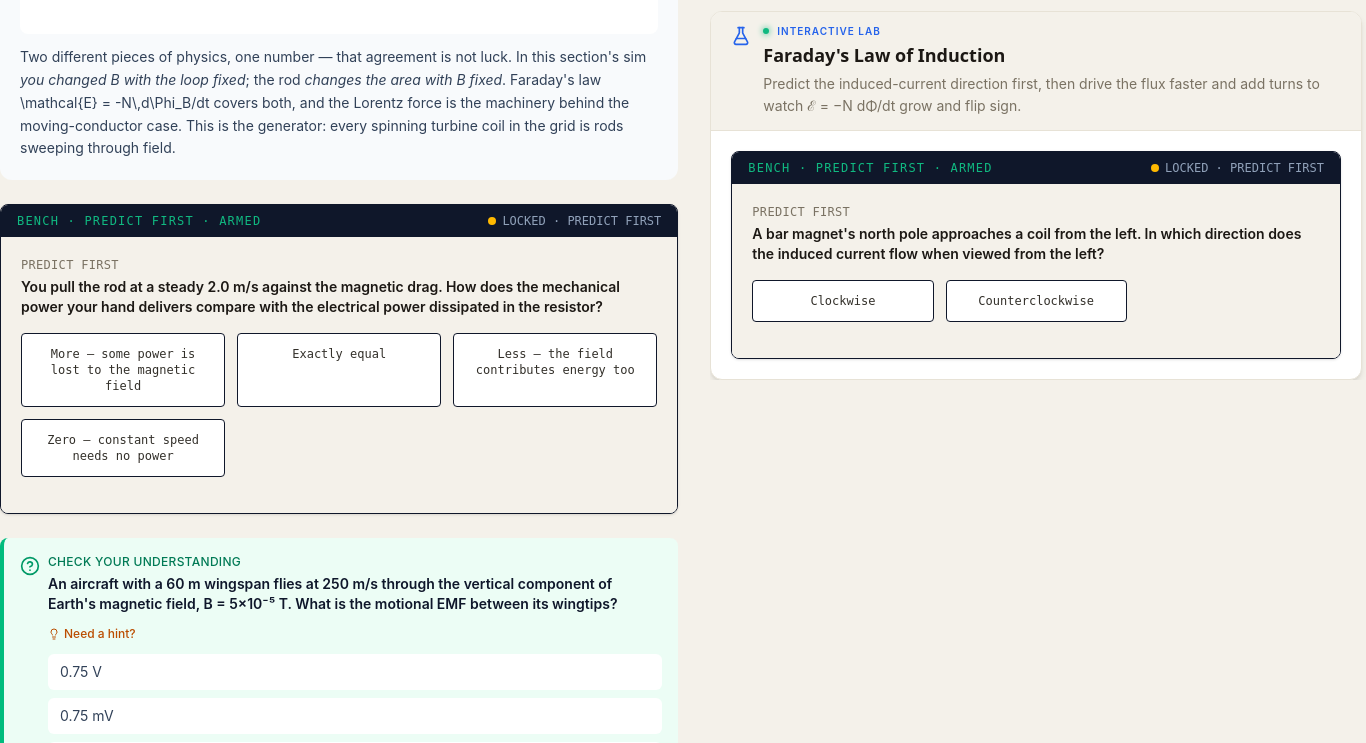
Test: FaradaySection — motional EMF, the rod on rails (unit 2D) › reveals the worked numbers and energy-loop card after passing the gate, and CC-F explains the wingtip EMF
(page scrolled)
Click the button "Exactly equal".
click(339, 370)  # box [237, 333, 441, 407]
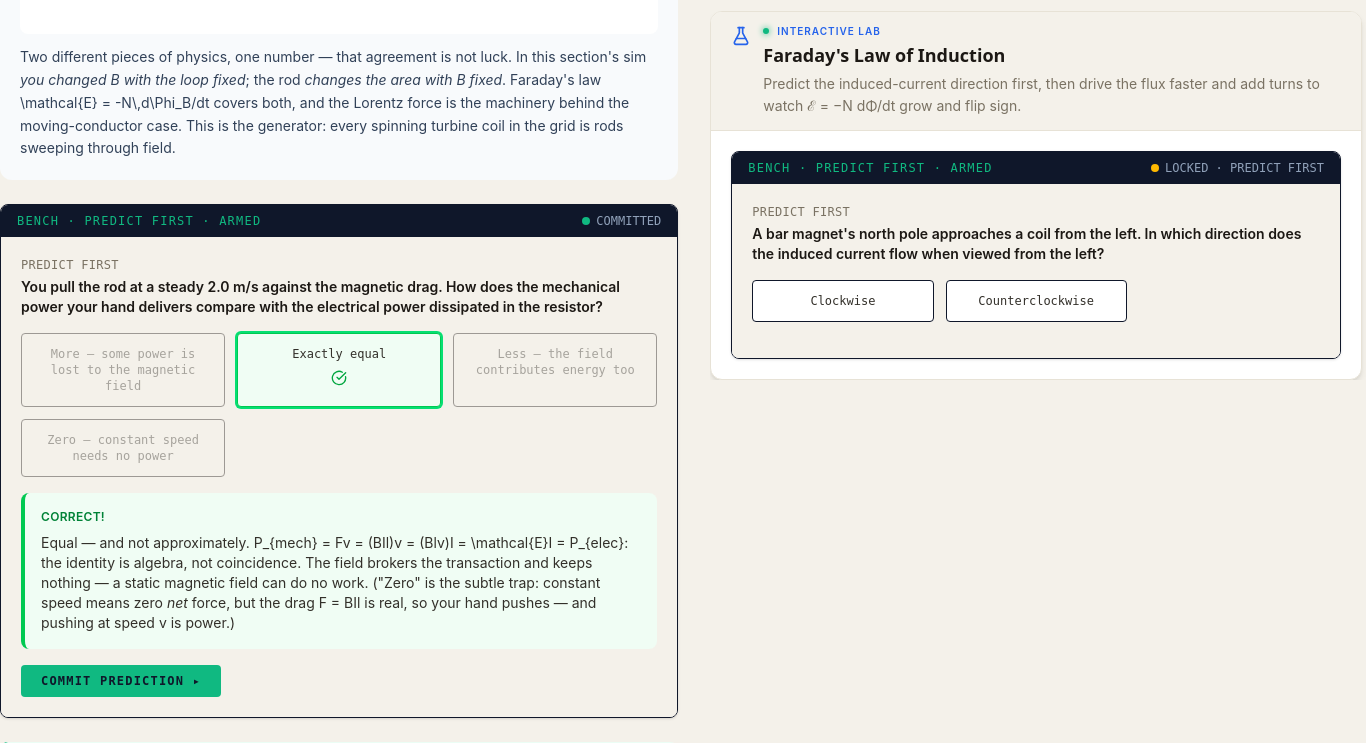
Click the button "COMMIT PREDICTION ▸".
click(121, 681)  # box [21, 665, 221, 697]
(page scrolled)
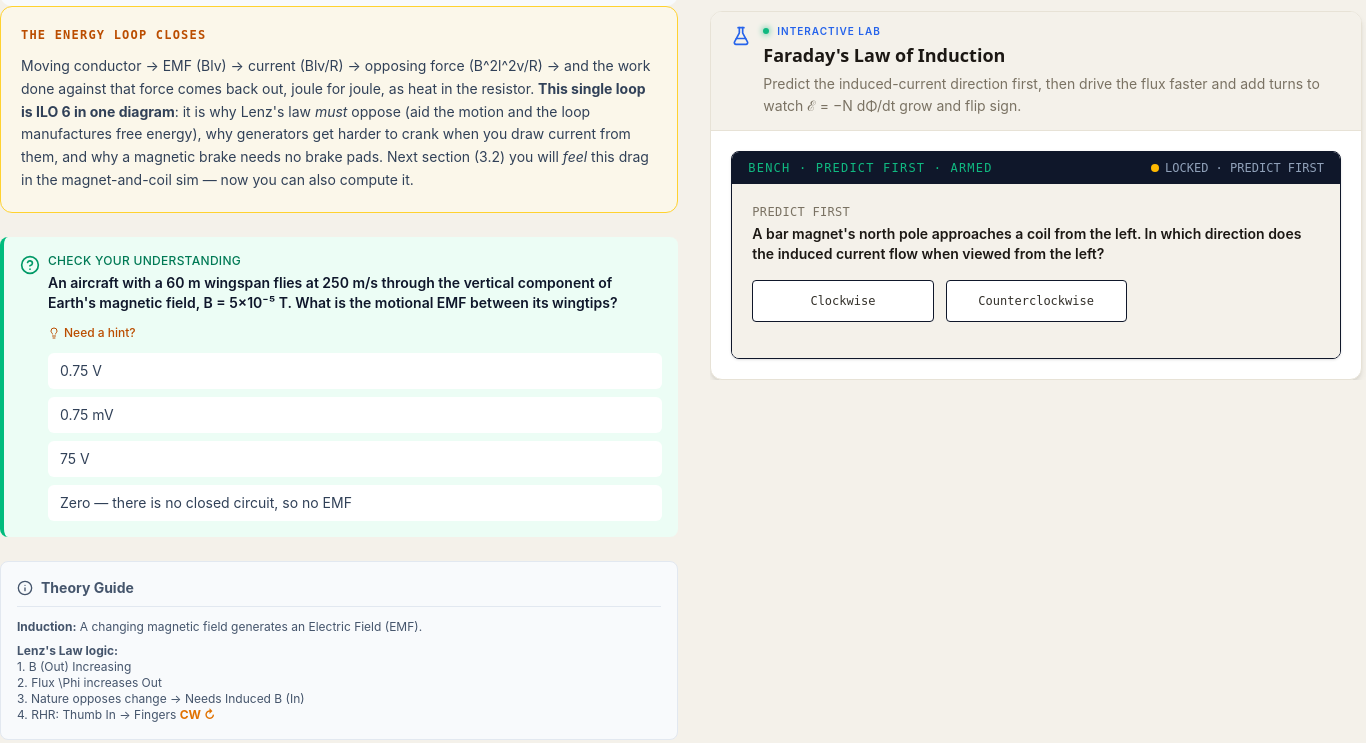
expect the text "wingspan" is shown: met, box [48, 274, 618, 311]
expect the text "The energy loop closes" is shown: met, box [21, 28, 206, 42]
Click the button "0.75 V".
click(81, 370)  # box [48, 353, 662, 389]
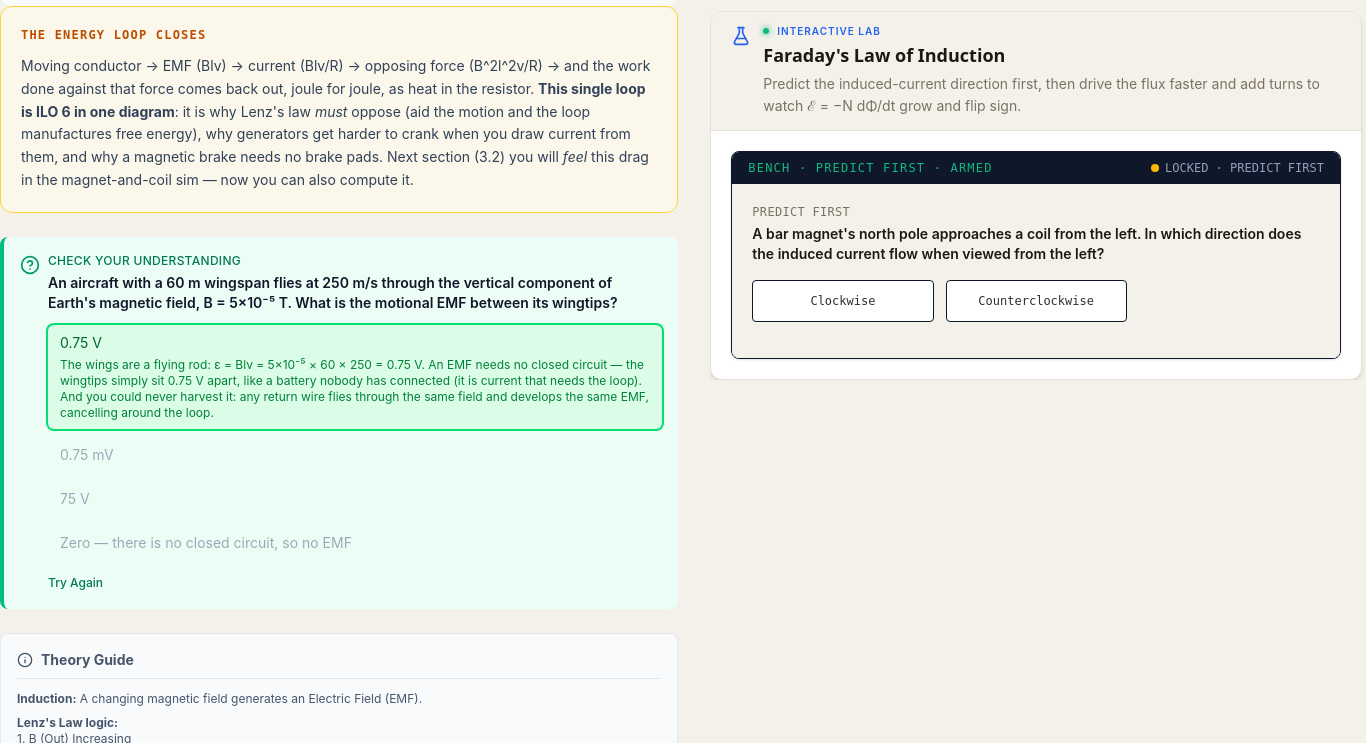
expect the text "An EMF needs no closed circuit" is shown: met, box [60, 357, 649, 420]
